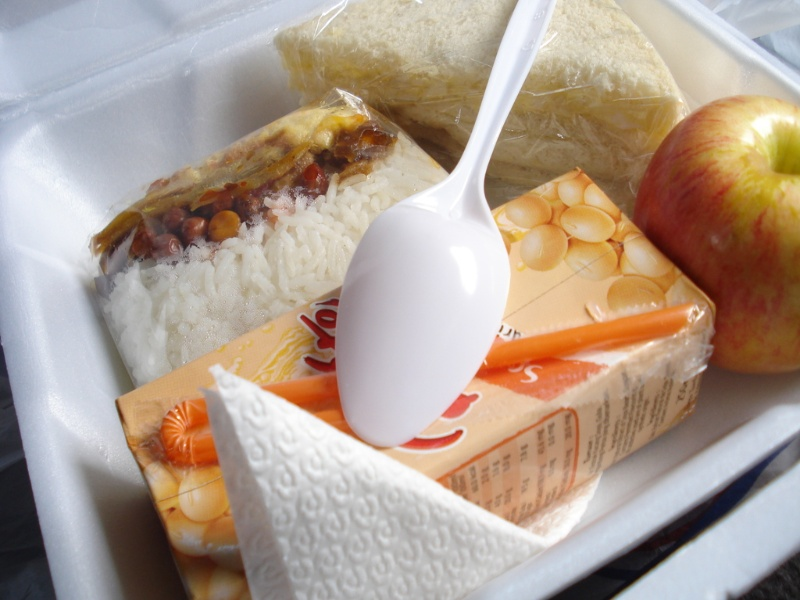apple: (638, 80, 800, 364)
